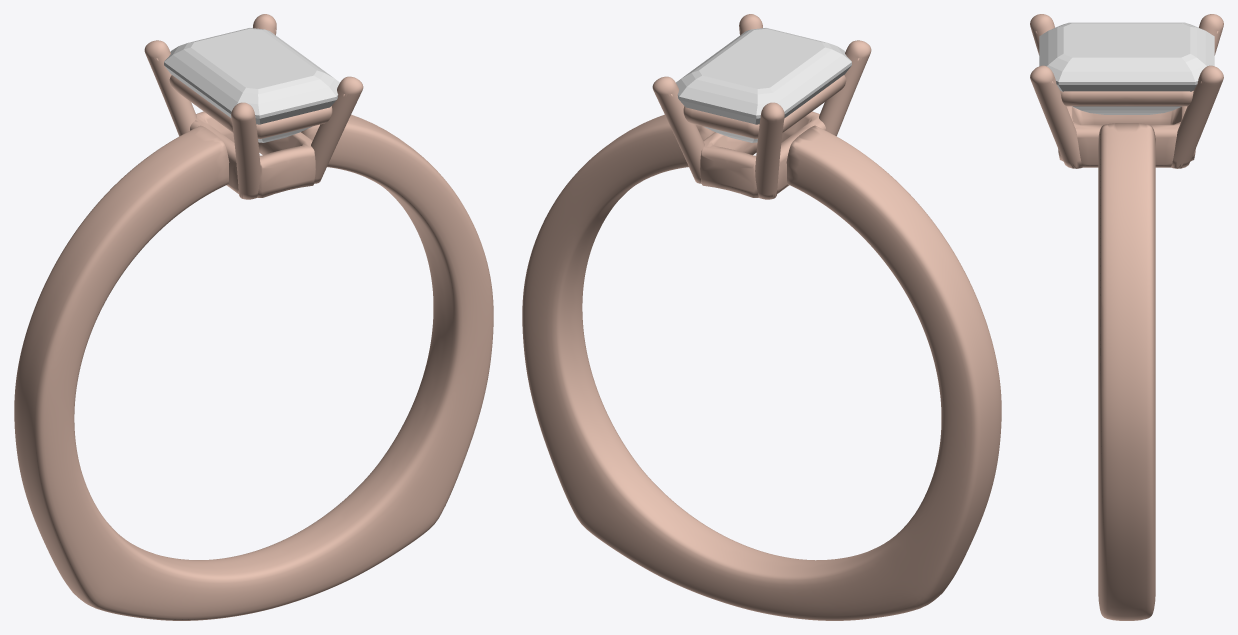
Rendered from diamond-emerald-rosegold-4prong-europeanshank-solitaire.glb.
3 renders of one model, left to right at view 1: azimuth 30°, elevation 25°; view 2: azimuth 150°, elevation 25°; view 3: azimuth 270°, elevation 25°, orthographic.
Visible parts, largest first — view 1: metal, stone; view 2: metal, stone; view 3: metal, stone.
Boxes of the visible parts, <box> form: metal: <box>14,14,493,620</box>; stone: <box>164,28,339,142</box>; metal: <box>522,14,1001,620</box>; stone: <box>676,28,851,142</box>; metal: <box>1030,14,1223,620</box>; stone: <box>1039,22,1214,114</box>.
Size of the model in its own units: 20.1 by 22.75 by 7.4.
